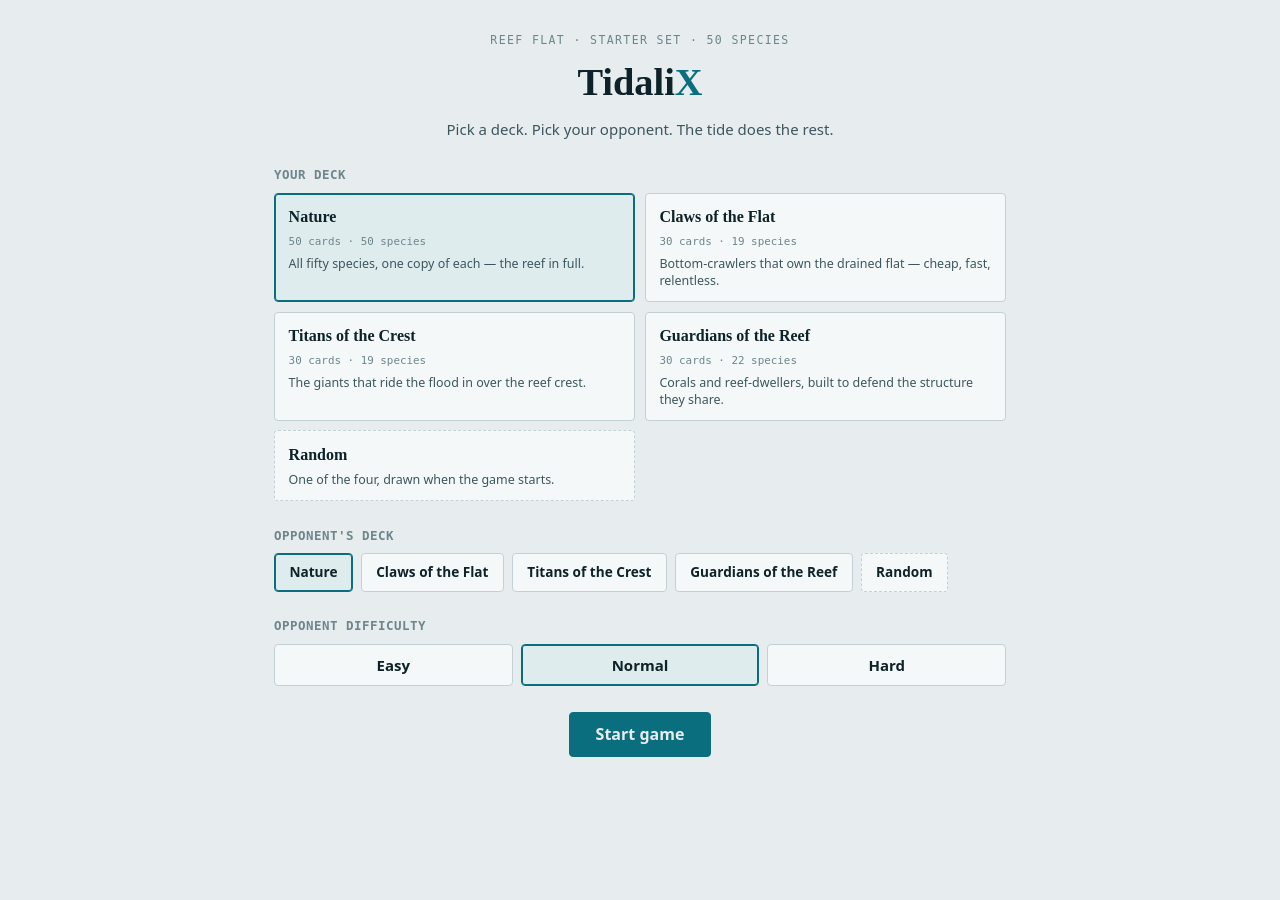
Scenario: client › prices the forecast in the phase that turn will actually open in
(page scrolled)
Click the button with class "setup__start" at (640, 734), box [569,712,711,757]
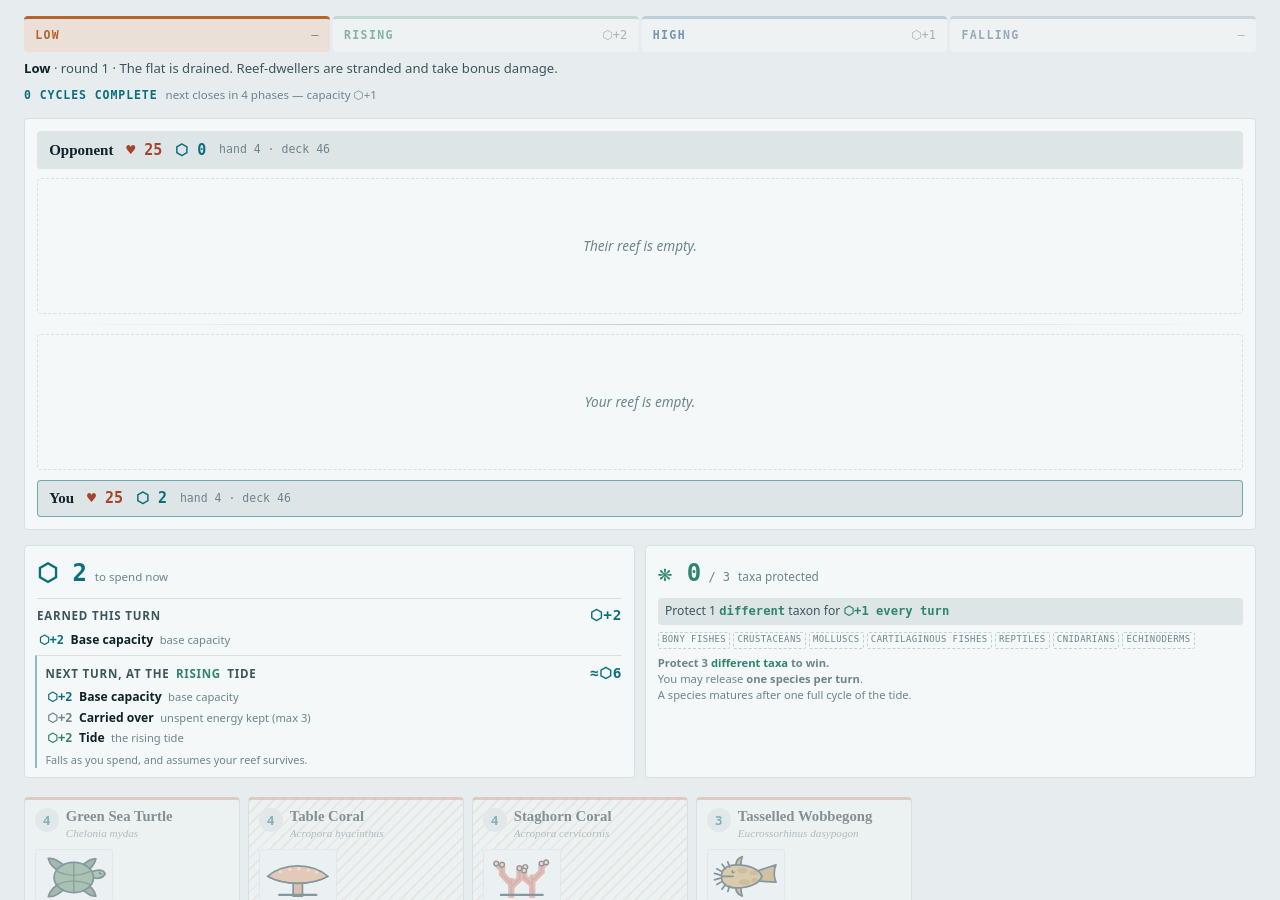
expect the text with class "energy__phase" reads "rising": met, box [176,666,221,681]
expect the element with class "energy__block--next" shows "the rising tide": met, box [111,730,184,746]
